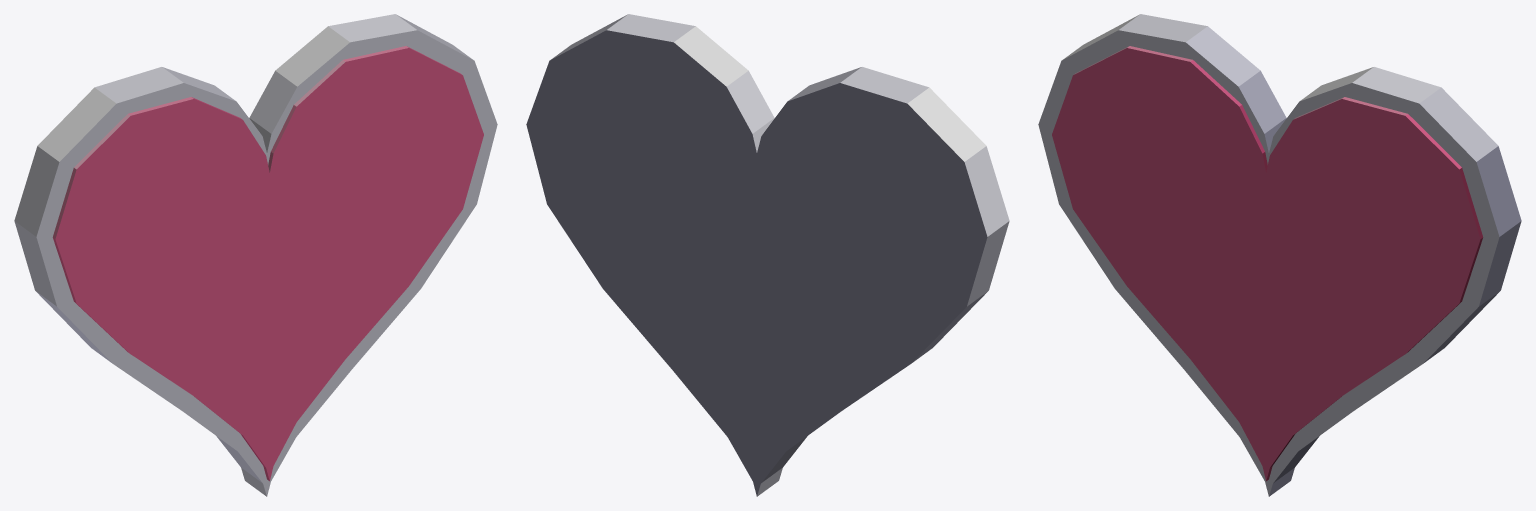
The model's file is emote_heart.glb.
3 views of the same model, side by side, from view 1: azimuth 30°, elevation 25°; view 2: azimuth 150°, elevation 25°; view 3: azimuth 330°, elevation 25° (orthographic).
Visible parts, largest first — view 1: emote_heart; view 2: emote_heart; view 3: emote_heart.
Part boxes in pixels (box(x1,y1,x2,y2)): emote_heart: box(14, 14, 497, 496); emote_heart: box(526, 14, 1009, 496); emote_heart: box(1038, 14, 1521, 496).
Size of the model in its own units: 0.9639 by 0.8674 by 0.09.
